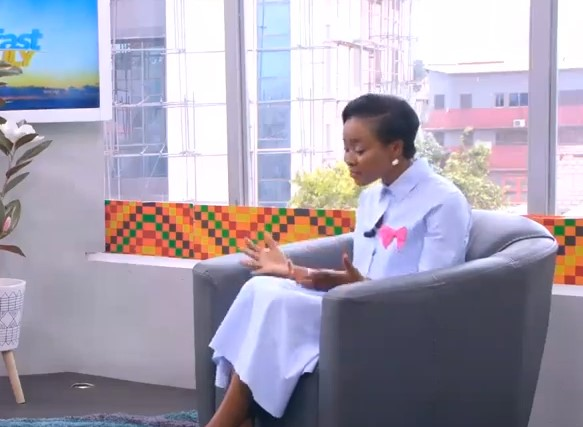face_no_mask: (339, 93, 421, 189)
